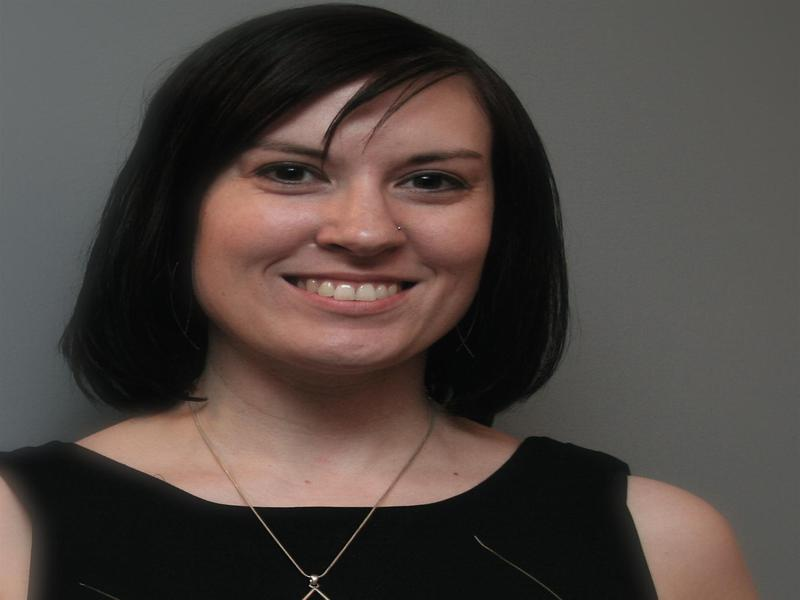person: (1, 10, 758, 600)
